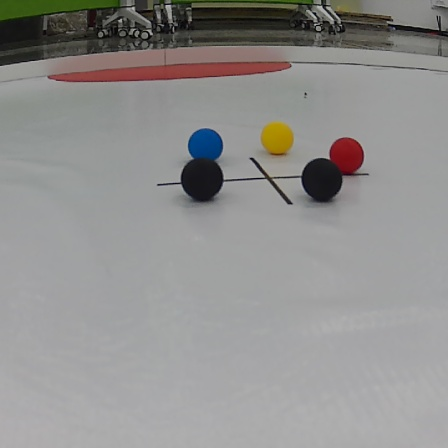black: (299, 157, 341, 207), (181, 160, 222, 203)
blue: (183, 130, 227, 160)
red: (328, 137, 367, 174)
red_base: (40, 58, 290, 80)
yellow: (259, 119, 294, 156)
